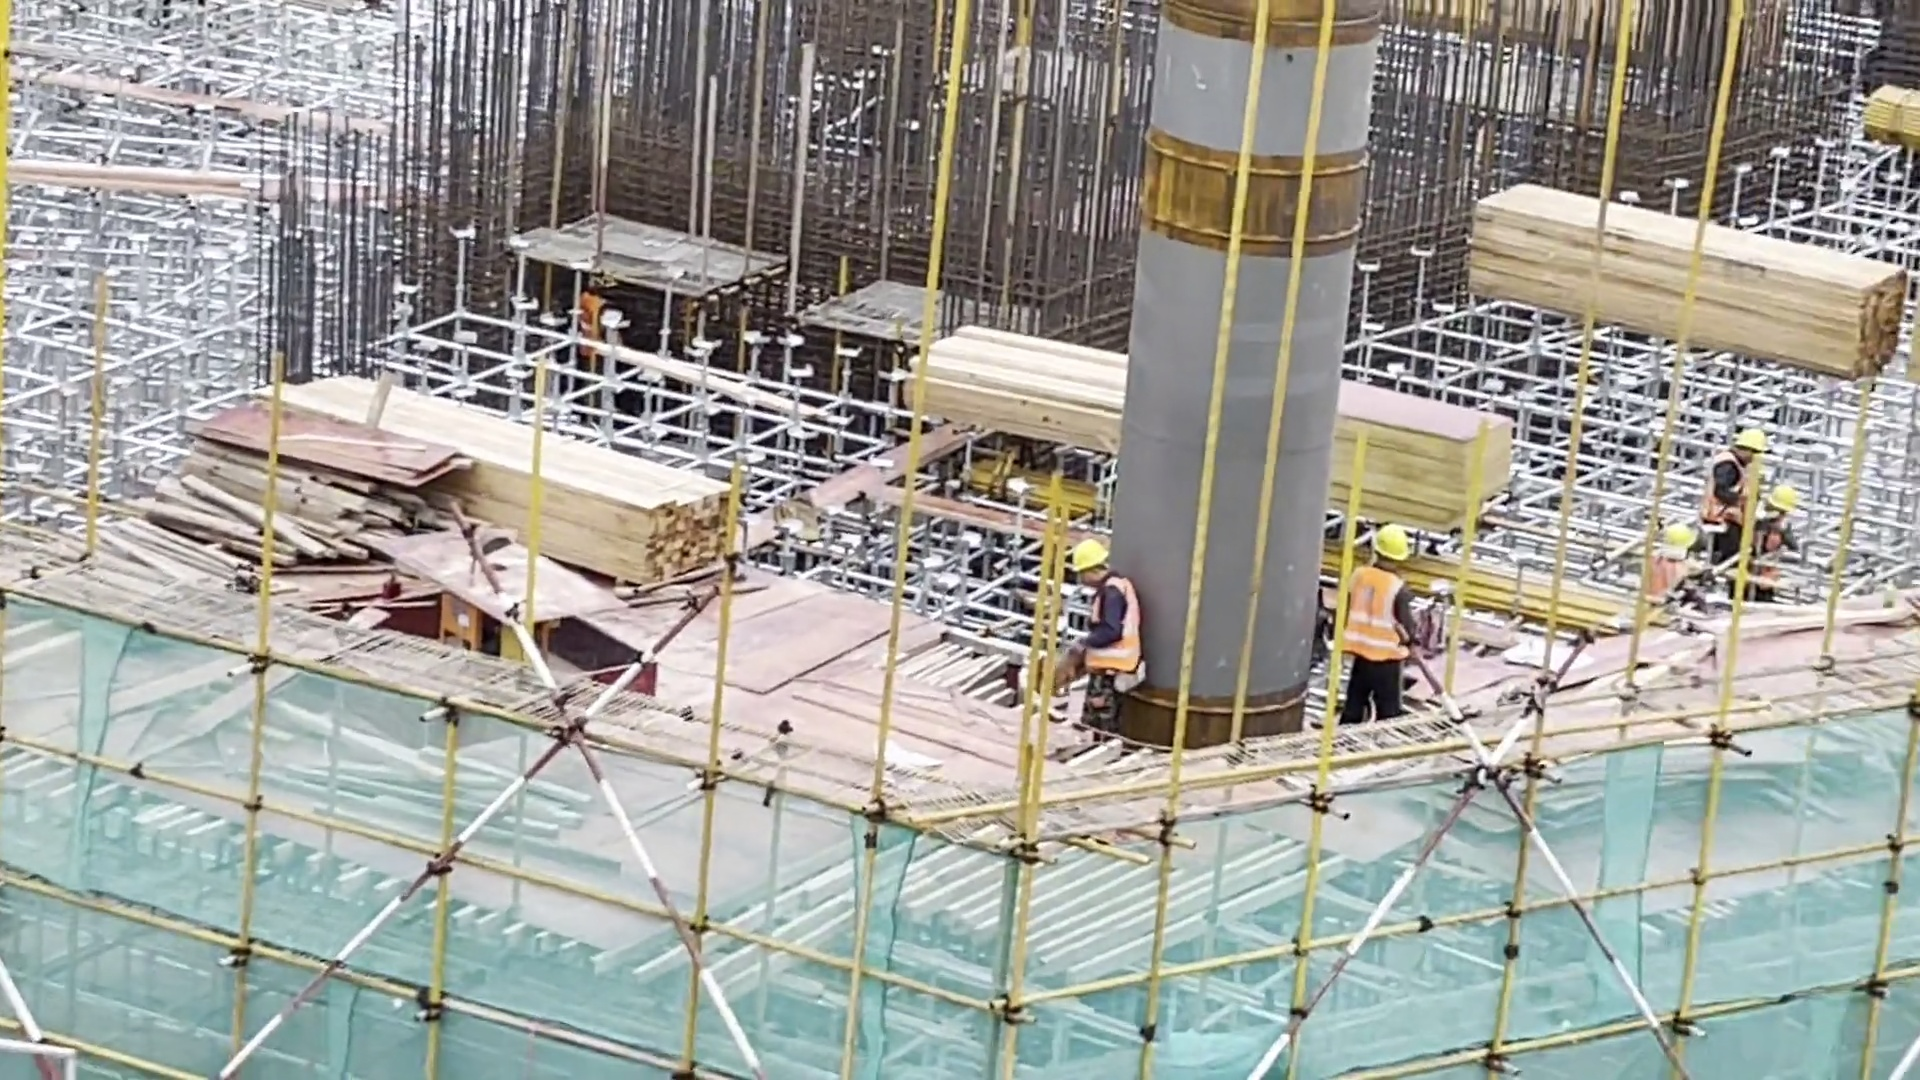cutter: (400, 519, 630, 659)
helmet: (1067, 529, 1111, 584), (1366, 518, 1415, 568), (1724, 423, 1772, 471)
person: (1057, 532, 1147, 731), (1352, 502, 1421, 729), (1693, 418, 1760, 541), (1762, 479, 1812, 606)
vest: (1077, 564, 1135, 667), (1344, 571, 1408, 655), (1704, 457, 1743, 517), (570, 291, 605, 340), (1752, 523, 1783, 574)
wood: (267, 383, 749, 574), (1468, 184, 1896, 375), (73, 469, 439, 596)
